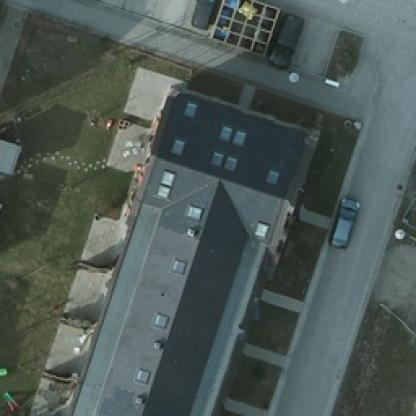car: (264, 13, 302, 70), (328, 196, 356, 248), (191, 0, 220, 28)
